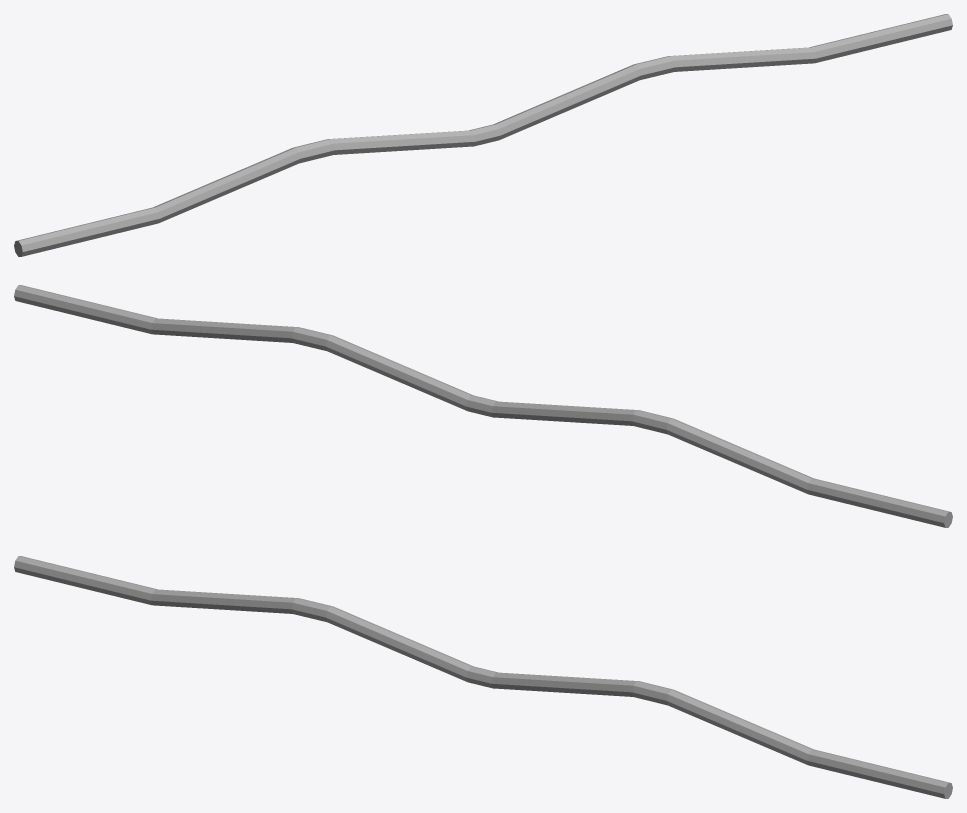
Rendered from EzBar.fbx.
3 views of the same model, one above another, from view 1: azimuth 30°, elevation 25°; view 2: azimuth 150°, elevation 25°; view 3: azimuth 330°, elevation 25° (orthographic).
Parts seen in each view (by area): view 1: EzBar; view 2: EzBar; view 3: EzBar.
Part boxes in pixels (left/top/right/bottom): EzBar: left=14, top=14, right=952, bottom=256; EzBar: left=14, top=285, right=952, bottom=527; EzBar: left=14, top=556, right=952, bottom=798.
Size of the model in its own units: 151 by 6.46 by 2.47.
